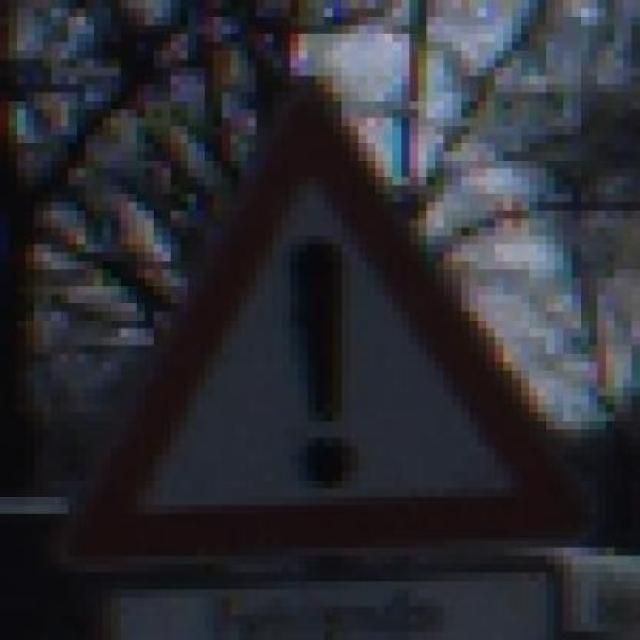Attention Please-: (60, 75, 606, 572)
